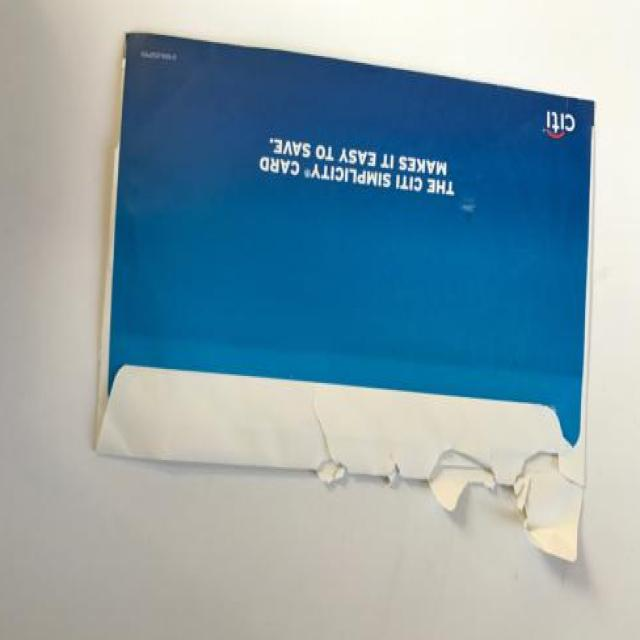kertas: (94, 31, 596, 562)
